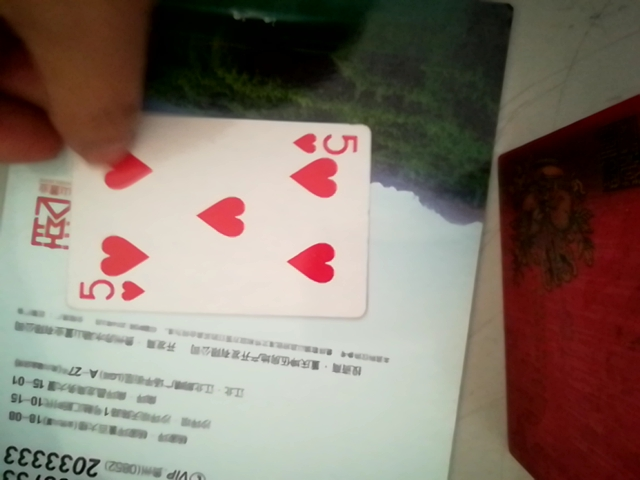hx 5: (35, 114, 380, 320)
